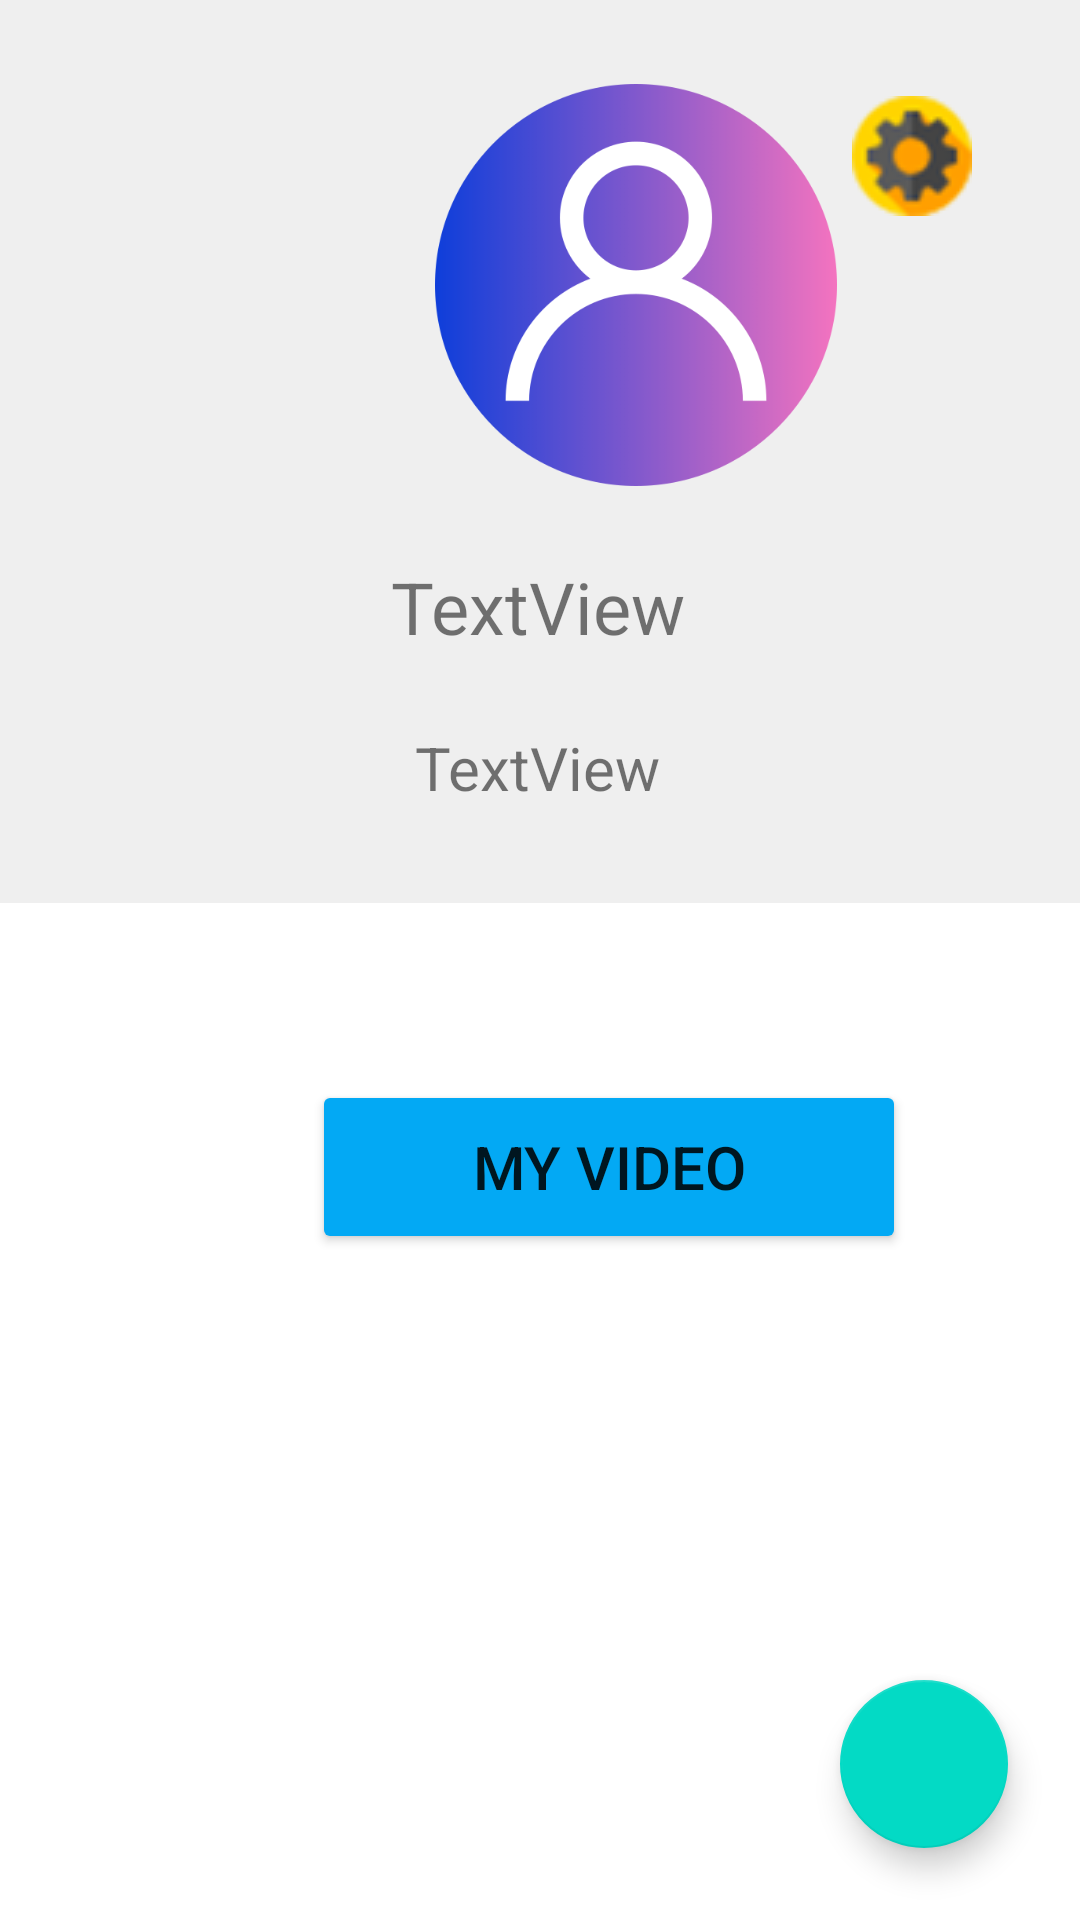

Icon click points for this 1080×1920 phone screenshot, format (x,y):
settings: (912,156)
